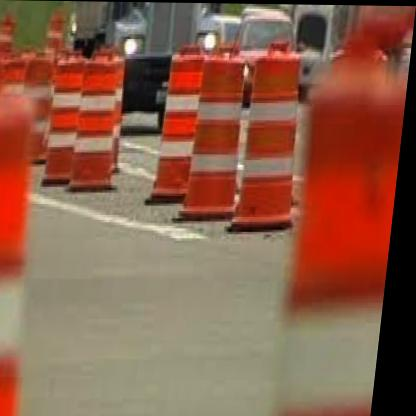obstacle: (181, 52, 256, 221), (242, 48, 312, 224), (69, 50, 131, 187)
